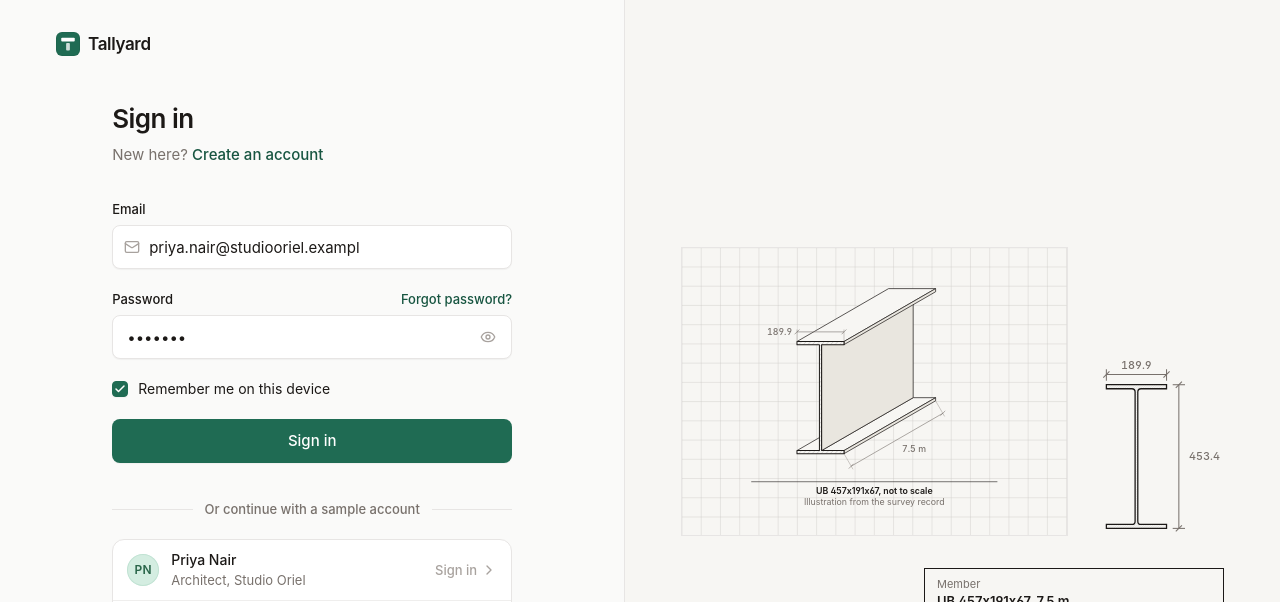
sign-in after an upgrade: typos, a stale sign-in and the way to sign up › a mistyped sample email gets the plain message only
Type "sandbox" into the password field labelled "Password" at (312, 337), box [112,315,512,359]
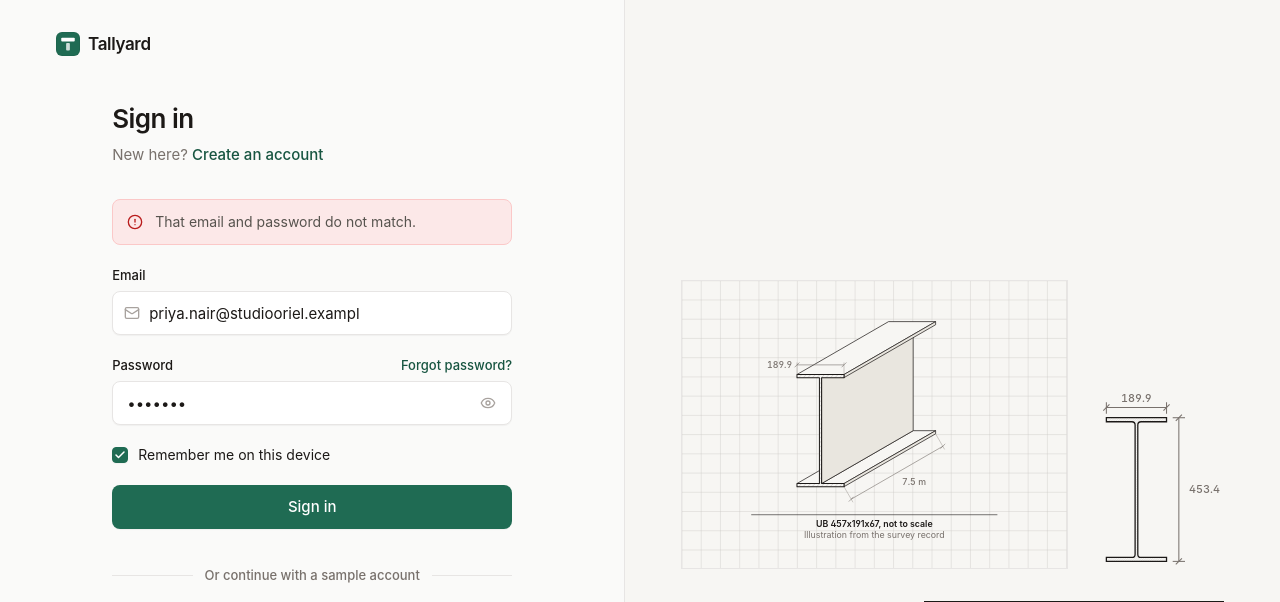
Now the message "That email and password do not match." is shown, box [112,199,512,245]
